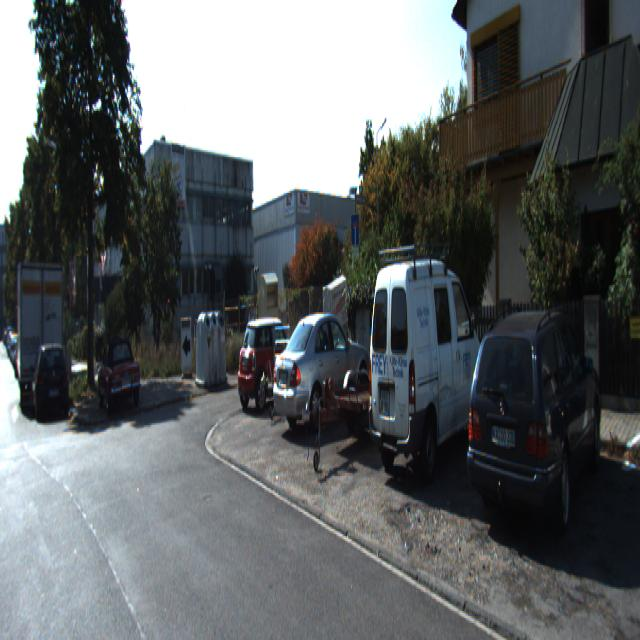Car: (468, 303, 608, 559), (366, 242, 495, 493), (269, 304, 374, 439), (234, 318, 305, 414), (95, 334, 141, 414), (36, 339, 70, 425)
Misc: (280, 356, 435, 488), (249, 322, 313, 426), (318, 276, 347, 356)
Truck: (19, 262, 64, 414)
